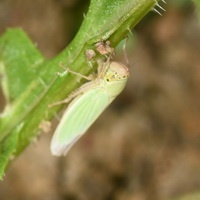insect: (51, 58, 128, 155)
